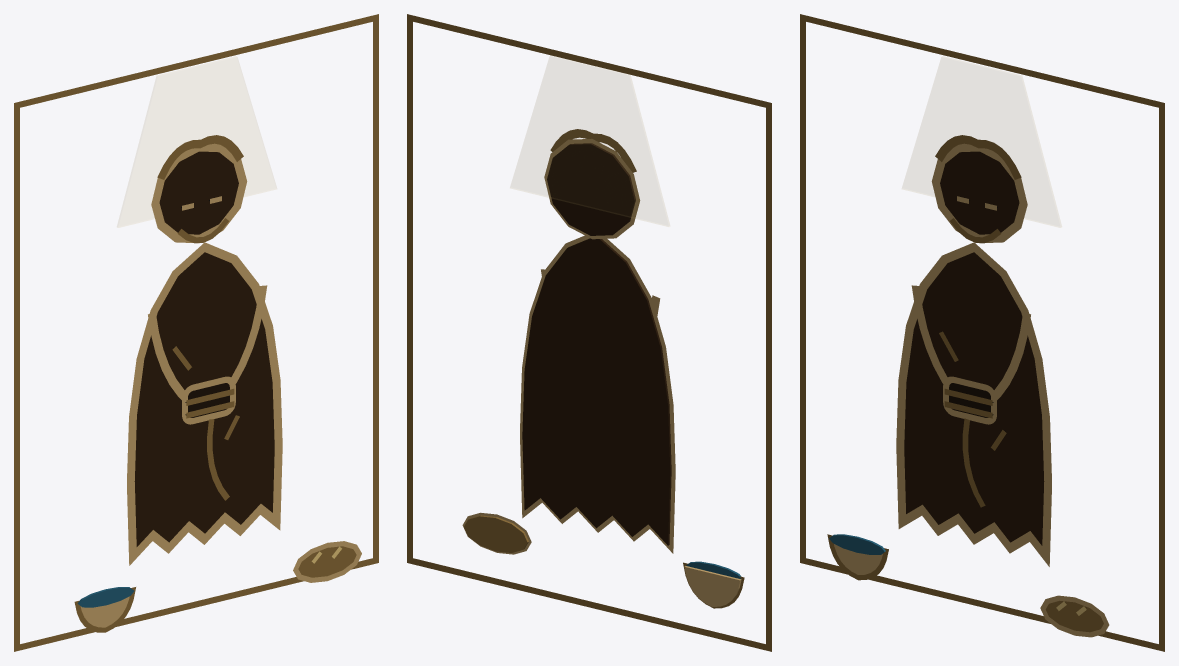
The model's file is npc-plennik.glb.
3 views of the same model, side by side, from view 1: azimuth 30°, elevation 25°; view 2: azimuth 150°, elevation 25°; view 3: azimuth 330°, elevation 25° (orthographic).
Parts seen in each view (by area): view 1: npc-plennik; view 2: npc-plennik; view 3: npc-plennik.
Boxes of the visible parts, left/top/right/bottom form: npc-plennik: left=14, top=14, right=378, bottom=651; npc-plennik: left=407, top=14, right=771, bottom=651; npc-plennik: left=800, top=14, right=1164, bottom=651.
Size of the model in its own units: 1.14 by 1.64 by 0.1129.
